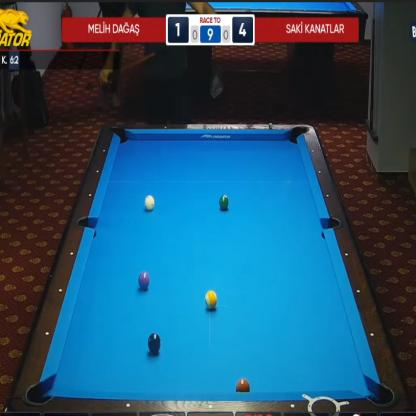Ball: (148, 333, 162, 355), (205, 290, 217, 310), (138, 272, 150, 290), (235, 378, 250, 392), (144, 195, 156, 211), (219, 195, 229, 210)
